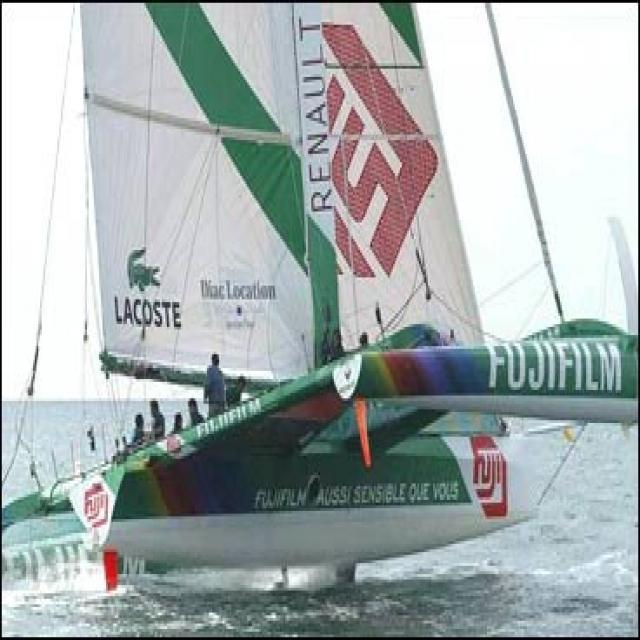Ship: (14, 1, 640, 640)
